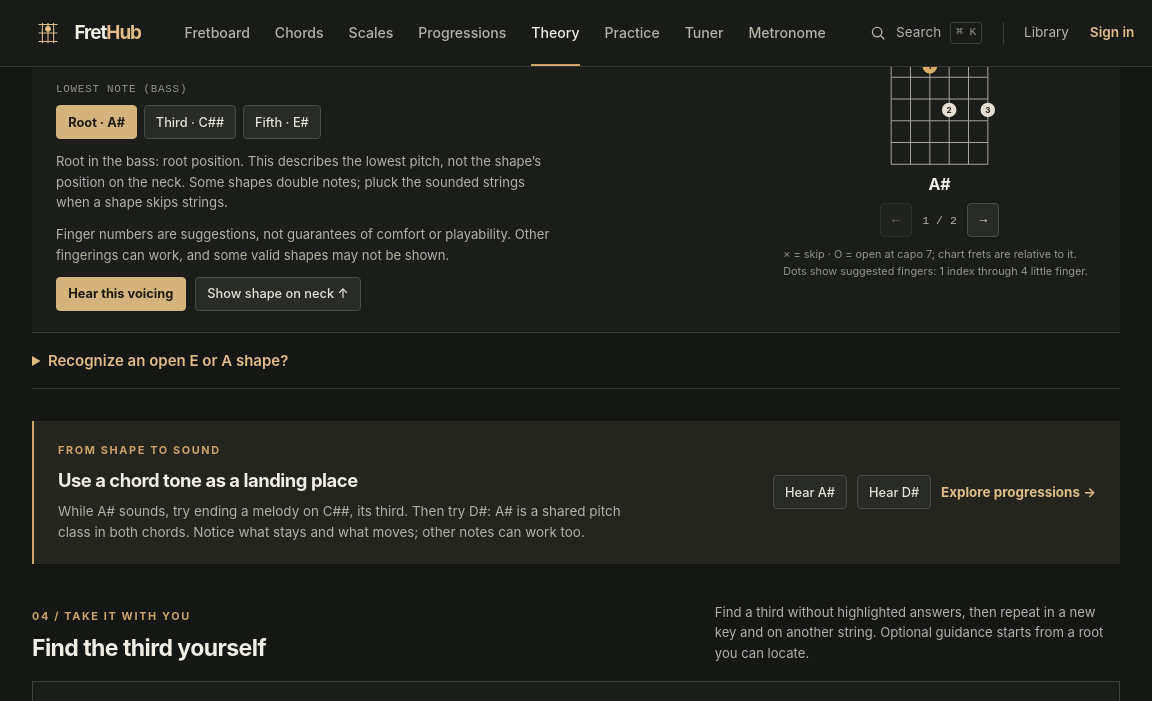
Scenario: connected triad study › expands the physical fret range for a high capo shape and never shows a partial shape
(page scrolled)
Click the heading "Recognize an open E or A shape?" at (168, 360), box [48,351,288,370]
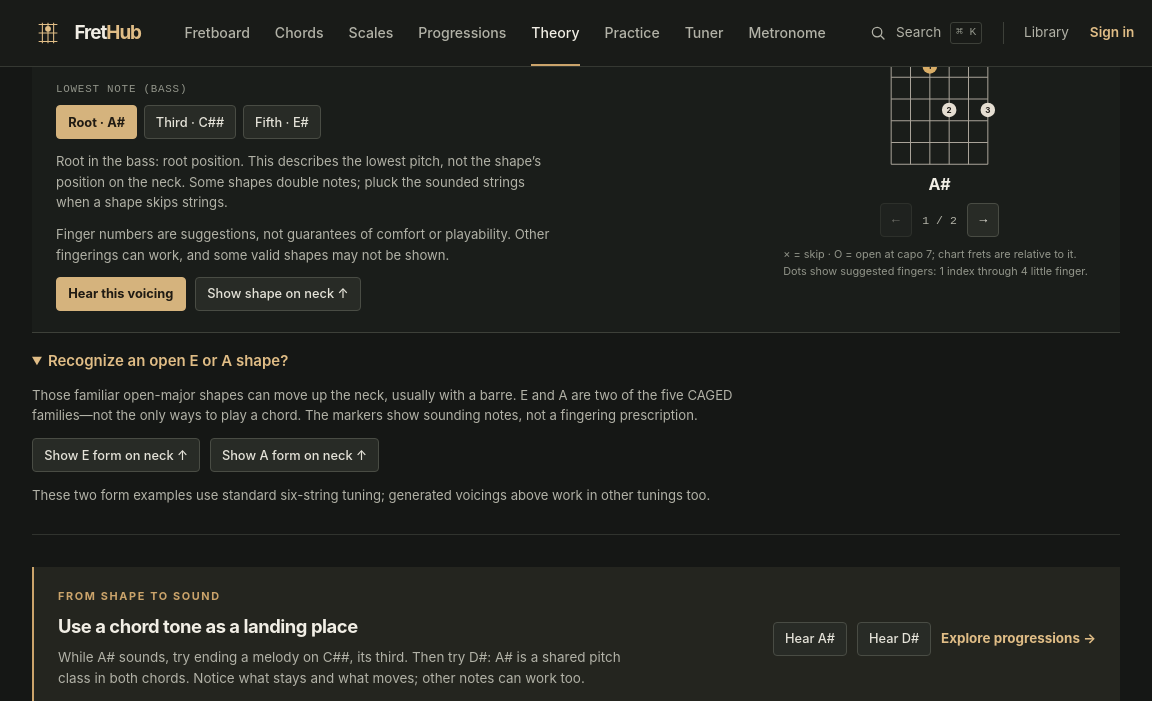
Click the button "Show E form on neck ↑" at (116, 455), box [32,438,200,472]
(page scrolled)
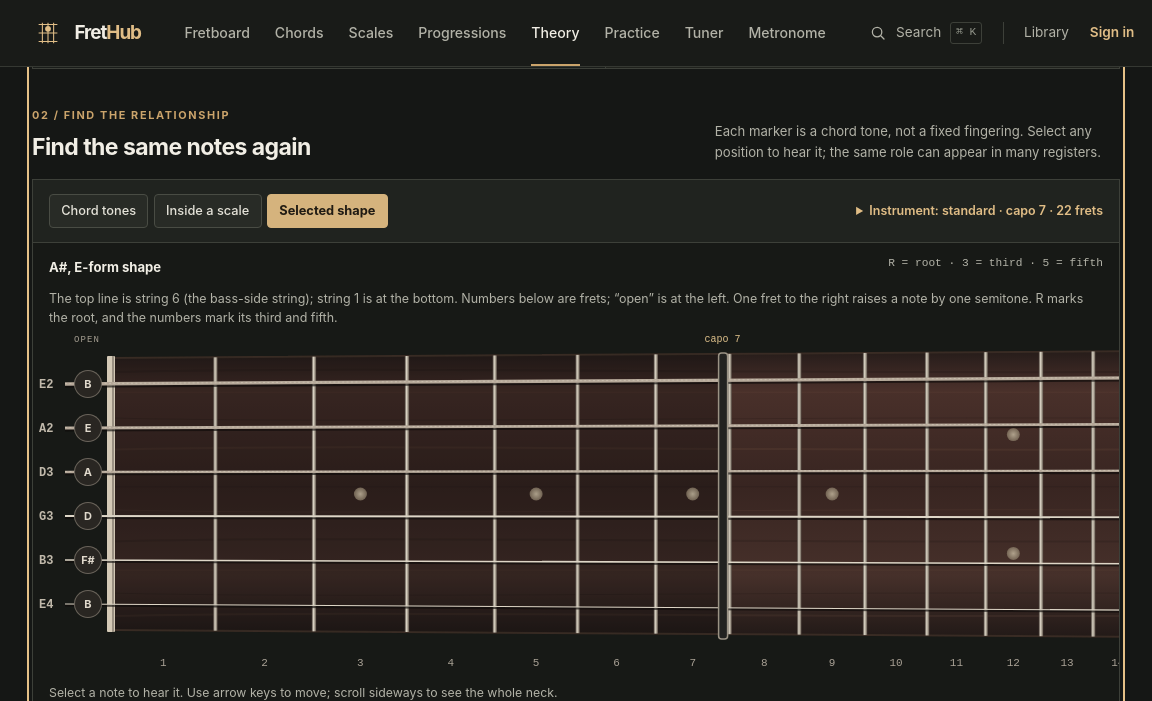
expect the text "A#, E-form shape" is shown: met, box [49,257,161,277]
Click the heading "Instrument: standard · capo 7 · 22 frets" at (980, 211), box [856,201,1103,221]
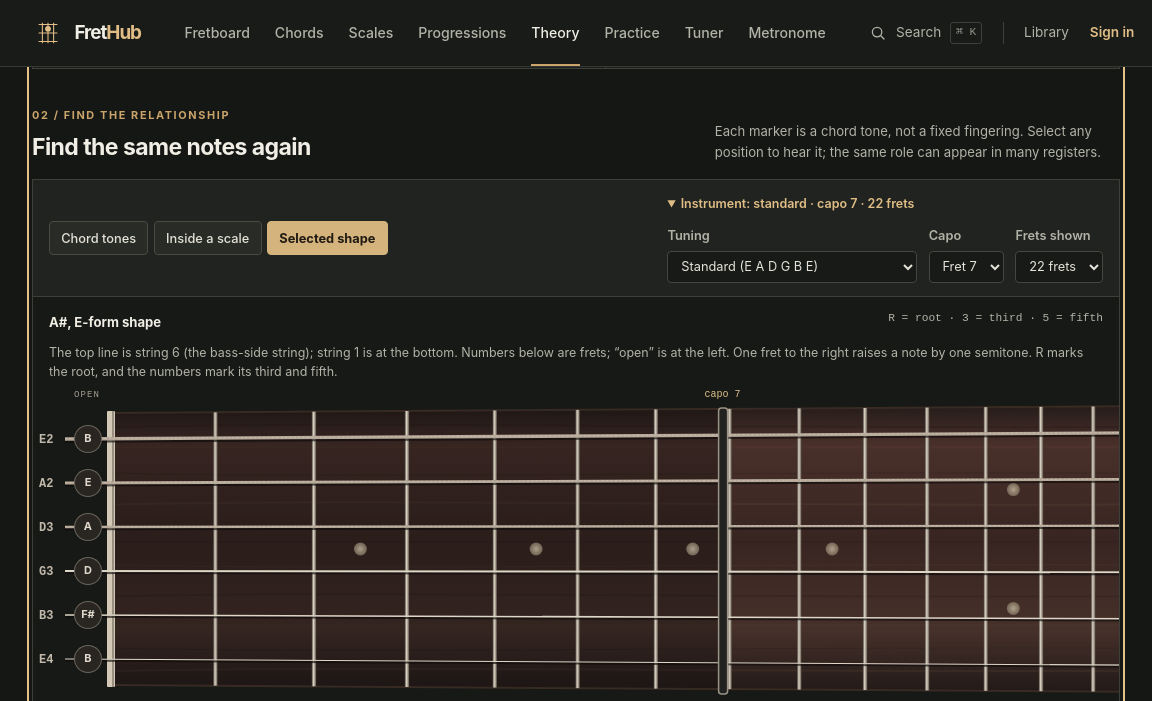
expect the dropdown labelled "Frets shown" shows "22 frets": met
Select "12 frets" in the dropdown labelled "Frets shown" at (1059, 267), box [1015,251,1103,283]
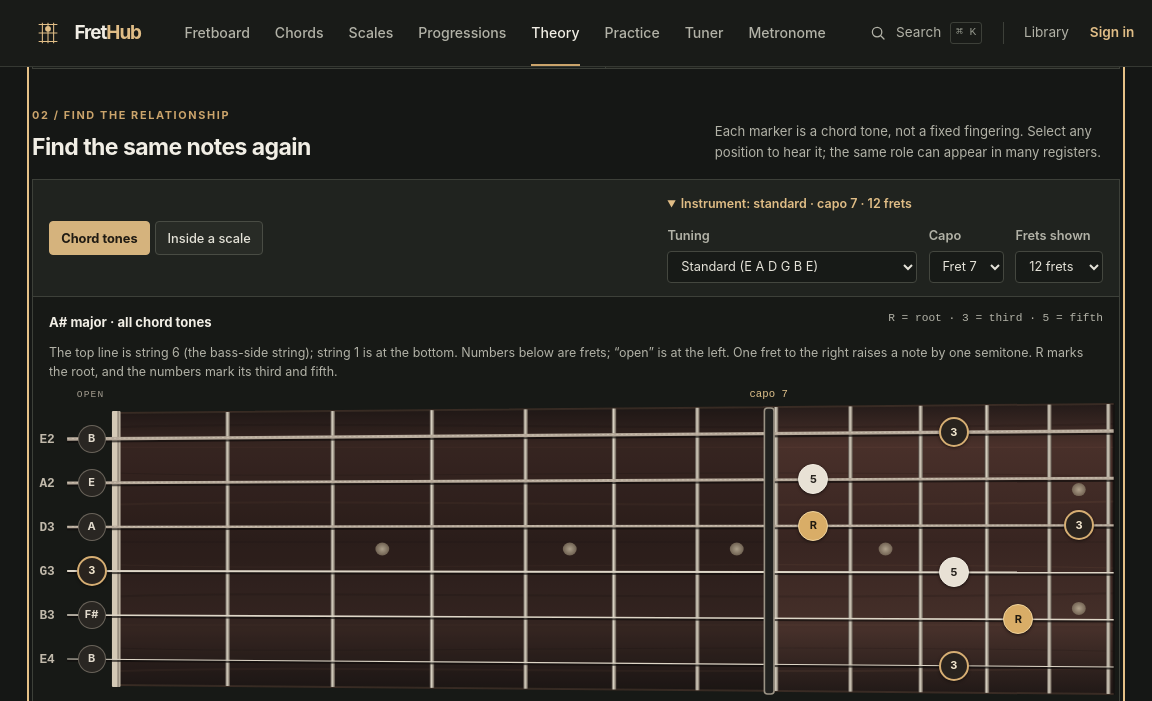
expect the text "A#, E-form shape" is gone: met
